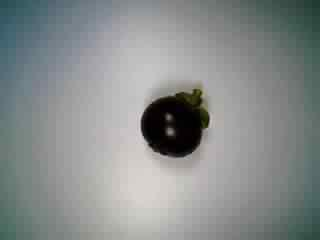mangosteen: (135, 84, 214, 163)
